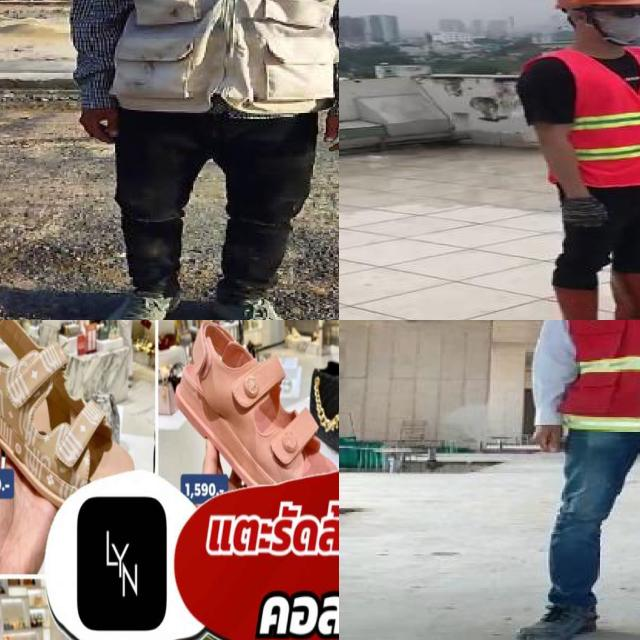boots: (538, 280, 638, 320), (611, 269, 640, 320)
face_mask: (592, 1, 640, 42)
glasses: (602, 2, 640, 21)
hand_glove: (555, 194, 612, 228)
hand_noglove: (528, 416, 572, 462)
head_helmet: (551, 0, 640, 10)
person: (67, 0, 339, 320), (519, 0, 640, 320), (529, 320, 640, 640)
shoes: (512, 582, 609, 640), (198, 289, 319, 320), (94, 282, 188, 320)
vest: (96, 0, 339, 122), (519, 48, 640, 188), (537, 320, 640, 447)
